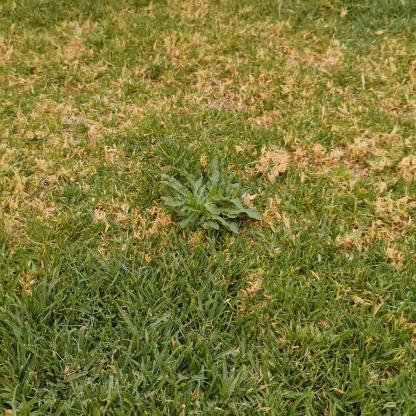Weeds: (158, 156, 265, 243)
